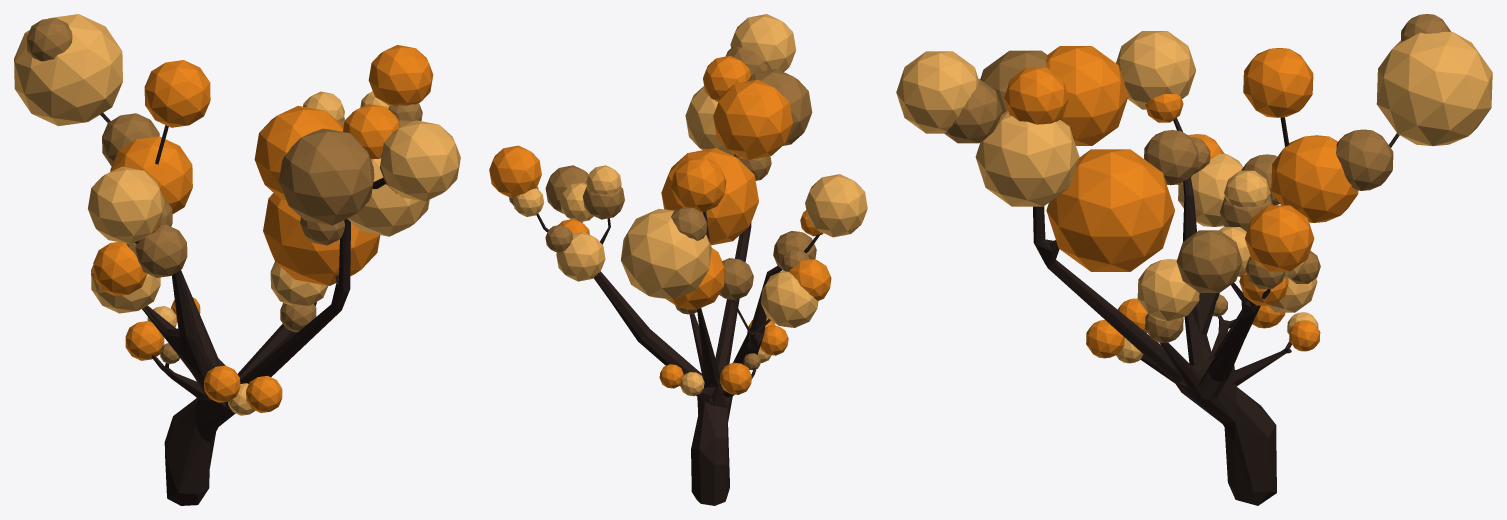
The model's file is Tree_2.fbx.
3 views of the same model, side by side, from view 1: azimuth 30°, elevation 25°; view 2: azimuth 150°, elevation 25°; view 3: azimuth 270°, elevation 25° (orthographic). The views are drawn at different scales.
Visible parts, largest first — view 1: Tree.010; view 2: Tree.010; view 3: Tree.010.
Boxes of the visible parts, x1=… form: Tree.010: x1=14, y1=14, x2=460, y2=505; Tree.010: x1=489, y1=14, x2=867, y2=505; Tree.010: x1=896, y1=14, x2=1492, y2=505.
Size of the model in its own units: 974 by 1099 by 1216.
